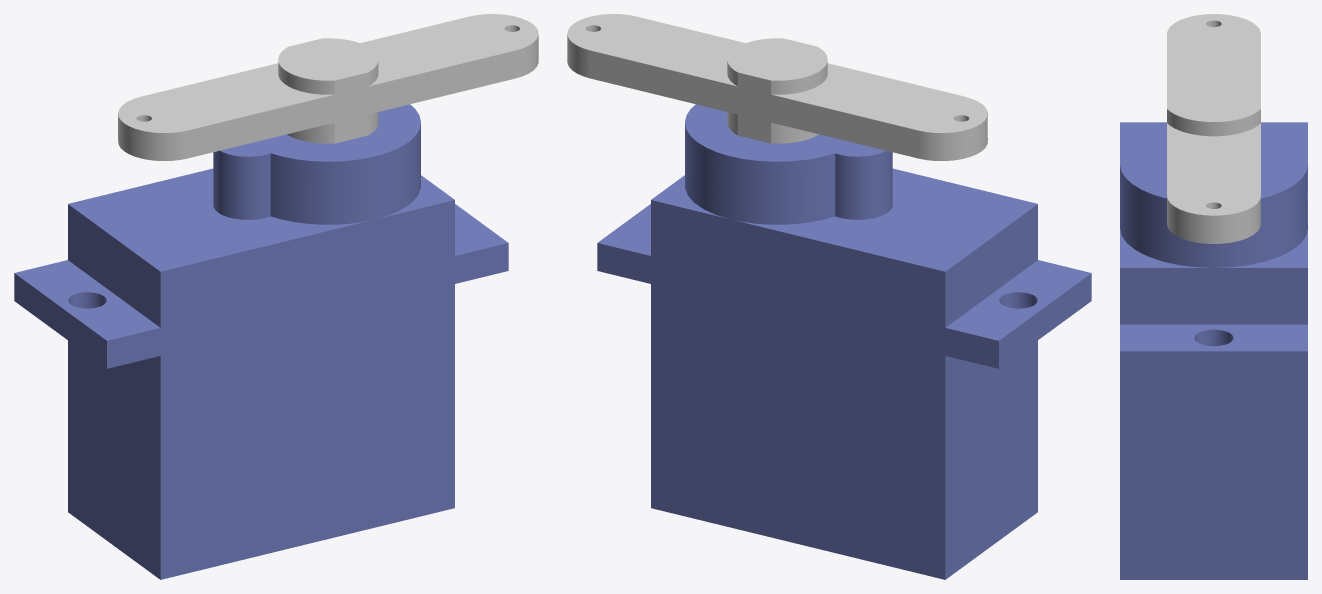
File: servo.glb
3 views of the same model, side by side, from view 1: azimuth 30°, elevation 25°; view 2: azimuth 150°, elevation 25°; view 3: azimuth 270°, elevation 25° (orthographic).
Parts seen in each view (by area): view 1: Body1, Body4; view 2: Body1, Body4; view 3: Body1, Body4.
Part boxes in pixels (x1,y1,x2,y2): Body1: [14, 104, 508, 579]; Body4: [118, 14, 538, 160]; Body1: [597, 104, 1091, 579]; Body4: [567, 14, 987, 160]; Body1: [1120, 122, 1307, 579]; Body4: [1167, 14, 1260, 243].
Size of the model in its own units: 4.27 by 3.76 by 1.45.
